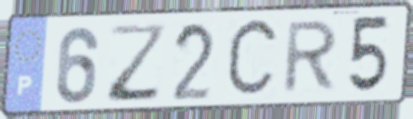2: (168, 20, 220, 102)
5: (345, 12, 395, 97)
6: (54, 24, 101, 106)
C: (223, 14, 282, 104)
R: (279, 17, 342, 96)
Z: (107, 21, 169, 105)
